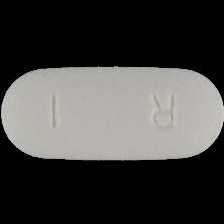50458-300: (0, 0, 224, 224)
